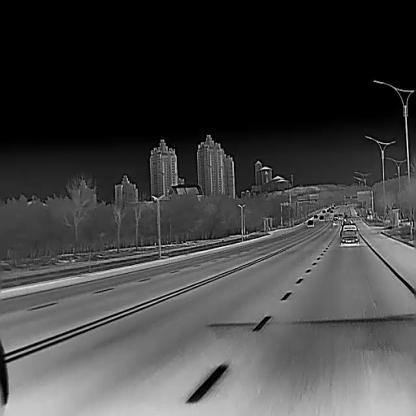car: (339, 222, 359, 245), (332, 217, 338, 224), (307, 219, 313, 225)
